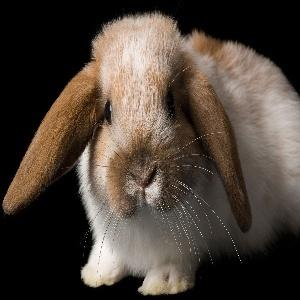rabbit: (3, 12, 300, 297)
